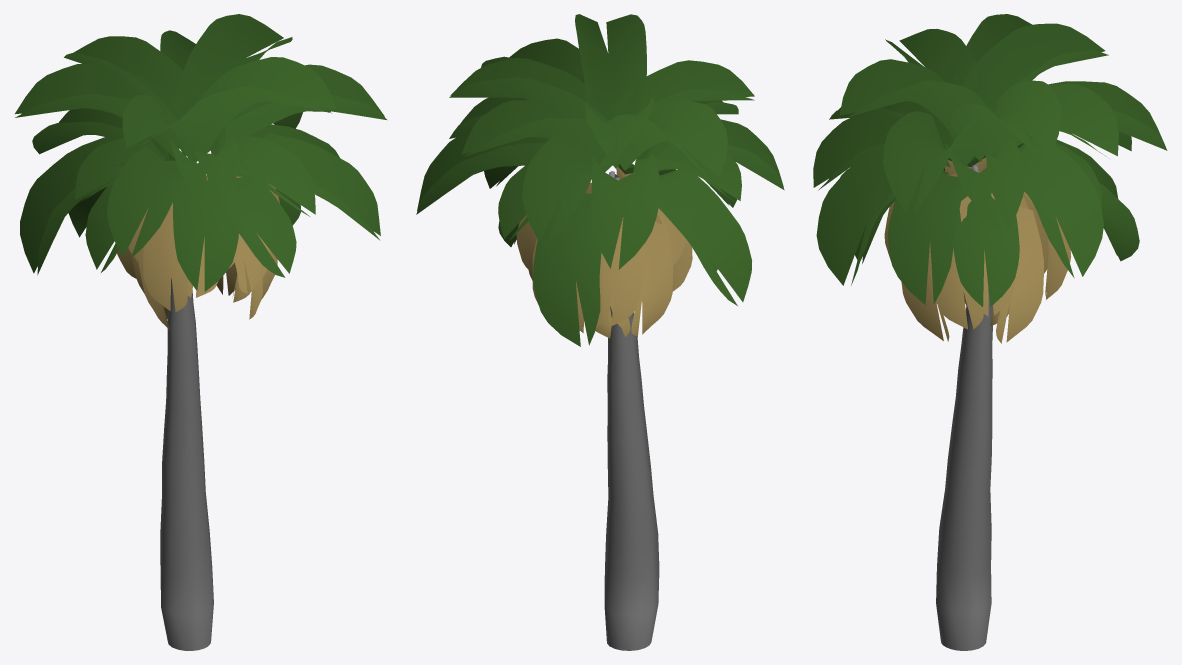
Rendered from SM_palm_tree_desert_01.fbx.
The picture shows the model from 3 angles, left to right: view 1: azimuth 30°, elevation 25°; view 2: azimuth 150°, elevation 25°; view 3: azimuth 270°, elevation 25°; orthographic projection. The views are drawn at different scales.
Parts seen in each view (by area): view 1: Object015; view 2: Object015; view 3: Object015.
Boxes of the visible parts, <box> form: Object015: <box>15,14,387,650</box>; Object015: <box>416,14,784,650</box>; Object015: <box>813,14,1167,650</box>.
Bounding box in the file's own units: 150 × 269 × 145.
